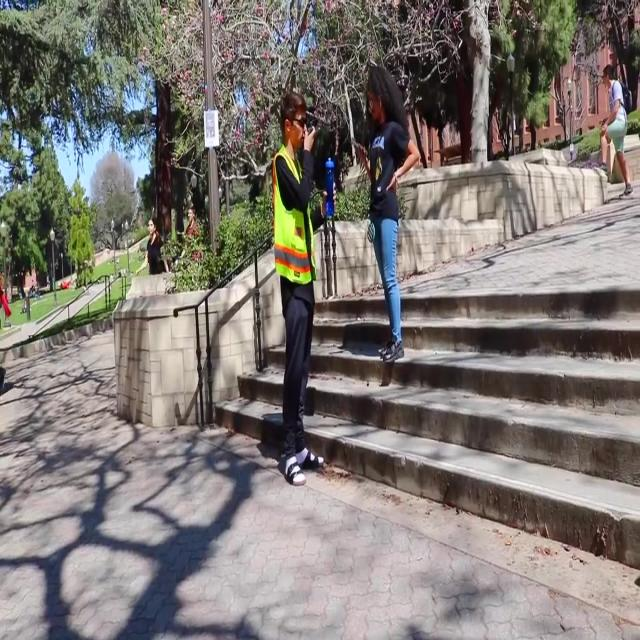Reflective-Jacket: (269, 143, 317, 289)
Safety-Helmet: (610, 79, 624, 103)
